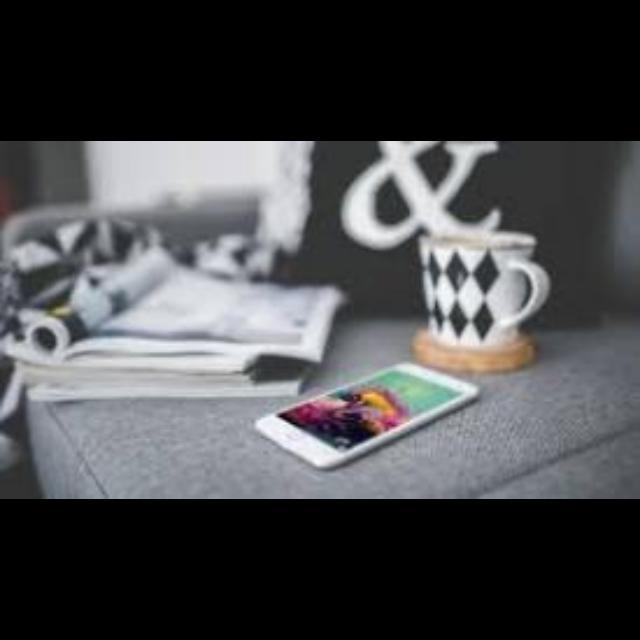Phone: (252, 364, 478, 472)
